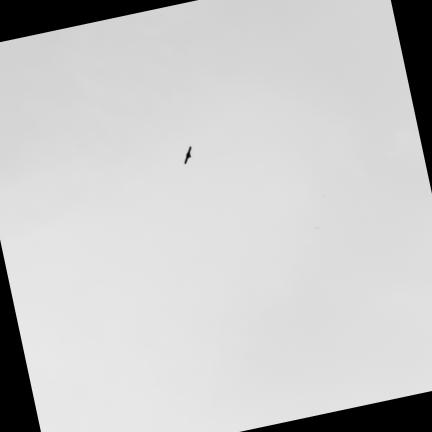Shahed: (185, 146, 191, 163)
